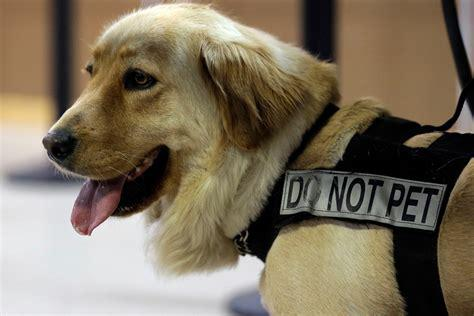dog: (43, 3, 474, 316)
